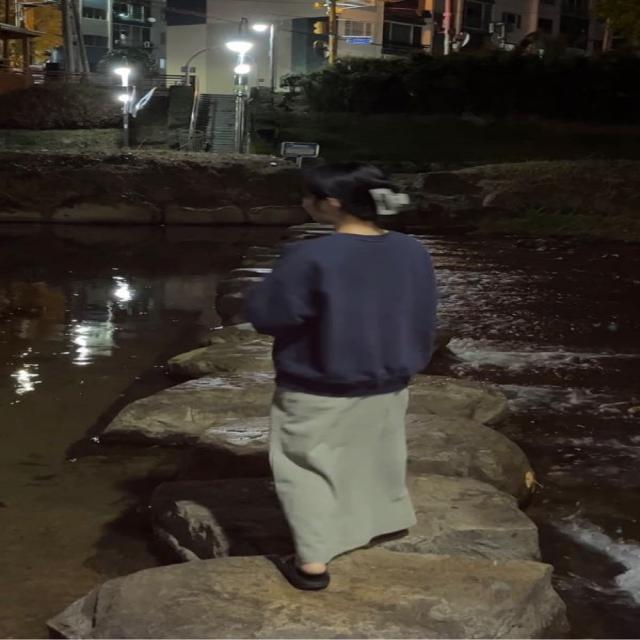mtm: (244, 230, 436, 395)
skirt: (265, 379, 419, 562)
